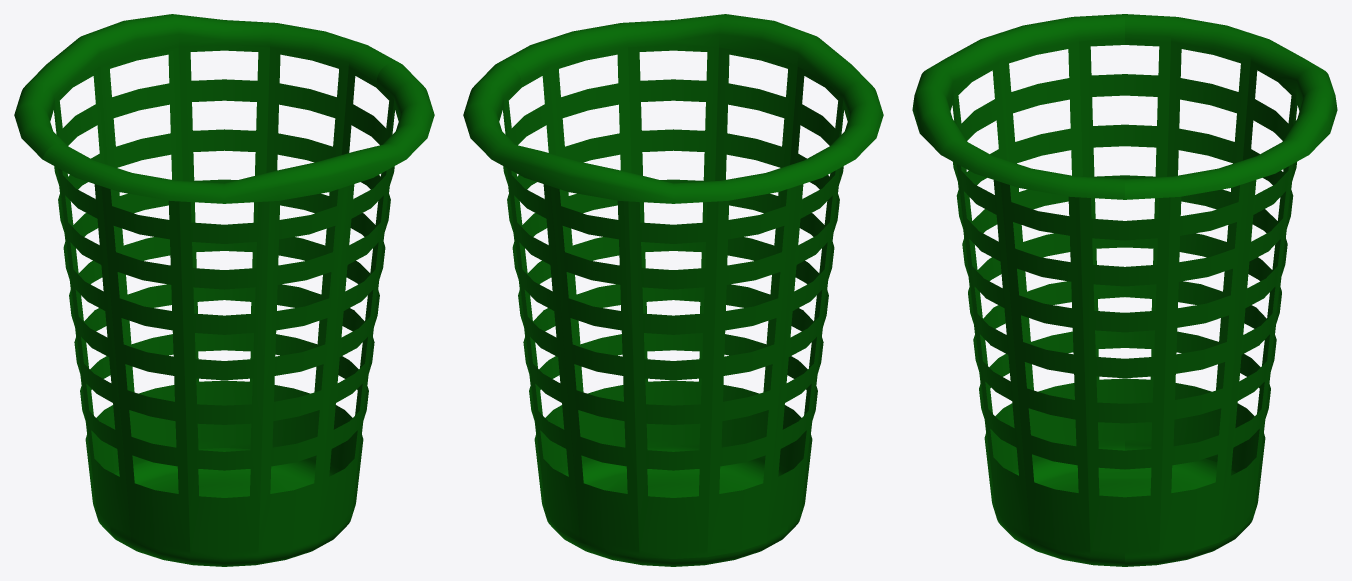
3 renders of one model, left to right at view 1: azimuth 30°, elevation 25°; view 2: azimuth 150°, elevation 25°; view 3: azimuth 270°, elevation 25°, orthographic.
Visible parts, largest first — view 1: SketchUp (×3); view 2: SketchUp (×3); view 3: SketchUp (×3).
Part boxes in pixels (bbox=[...]): SketchUp (×3): bbox=[14, 14, 434, 566]; SketchUp (×3): bbox=[463, 14, 883, 566]; SketchUp (×3): bbox=[912, 14, 1337, 566].
Bounding box in the file's own units: 18.06 × 18.06 × 20.13.
